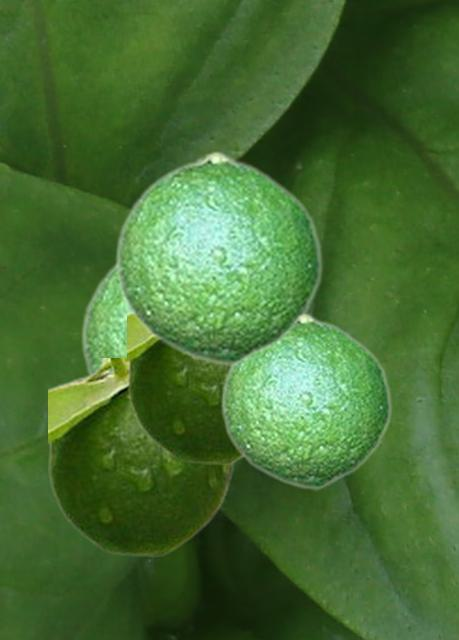dalandan: (113, 150, 322, 365), (48, 358, 234, 555), (219, 312, 391, 489), (127, 311, 244, 463), (79, 261, 127, 375)
